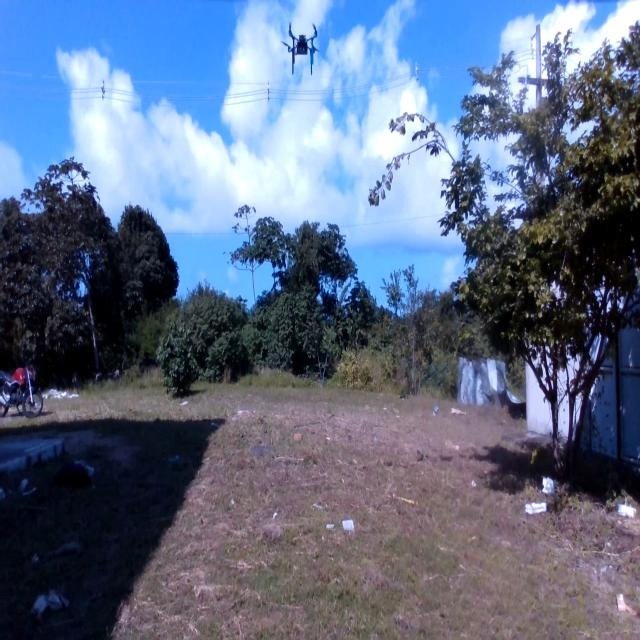-uav-: (272, 10, 340, 95)
